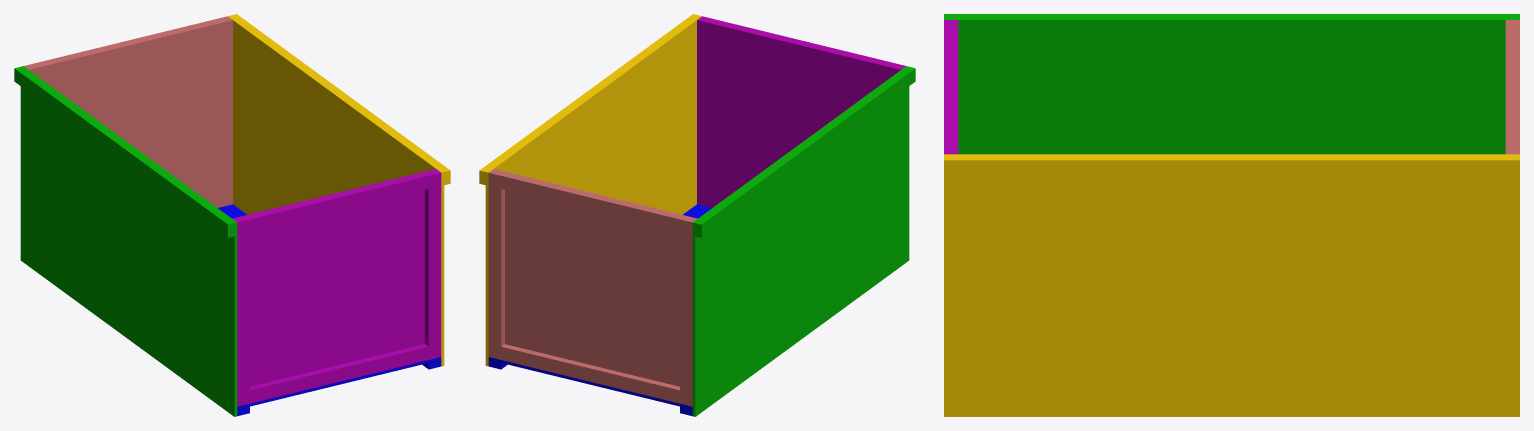
Rendered from result.glb.
3 renders of one model, left to right at view 1: azimuth 30°, elevation 25°; view 2: azimuth 150°, elevation 25°; view 3: azimuth 270°, elevation 25°, orthographic. The views are drawn at different scales.
Visible parts, largest first — view 1: 0e25f98b-09f3-45cd-bb47-501c201eb324__Box_6, 205b519f-11cb-4ad0-8585-0641e719d6b9__Box_3, 975e53b6-2ae1-4391-97b3-ee45c57ce4dd__undefined, 373ed51d-e0e8-47a6-8060-f9aa5711905f__undefined, b307f171-5fd1-41de-a270-65da28c6567a__Box_7, 2282affe-a8a2-4584-a511-0d2fb181e34f__undefined, 9d6b0615-c00f-4112-9d98-4bf765b9b4c3__Box_5, a1a6cd99-55f1-4740-ae36-e056ed8fb9df__undefined, 8f25a46c-e6c3-4e48-b54b-0ba611fcf8d8__Box_4, 3e5312ab-704e-4ec3-b5ff-955b9643d6ba__undefined, 26ce99ba-490a-4482-bc67-6b5587c7695a__Box, d0da0373-8fb3-4bf7-9241-d7a6e5b3b28d__undefined; view 2: 0e25f98b-09f3-45cd-bb47-501c201eb324__Box_6, 373ed51d-e0e8-47a6-8060-f9aa5711905f__undefined, 975e53b6-2ae1-4391-97b3-ee45c57ce4dd__undefined, 205b519f-11cb-4ad0-8585-0641e719d6b9__Box_3, b307f171-5fd1-41de-a270-65da28c6567a__Box_7, d0da0373-8fb3-4bf7-9241-d7a6e5b3b28d__undefined, ca58fdfd-73b6-4acc-8591-f6bd75027dca__undefined, edbc277f-1fb7-4578-9288-ad8168f70018__undefined, 7edc9d4a-2712-4d6b-85fe-d94f5a2bf6b9__undefined, 3e5312ab-704e-4ec3-b5ff-955b9643d6ba__undefined, 26ce99ba-490a-4482-bc67-6b5587c7695a__Box, 2282affe-a8a2-4584-a511-0d2fb181e34f__undefined; view 3: 975e53b6-2ae1-4391-97b3-ee45c57ce4dd__undefined, 0e25f98b-09f3-45cd-bb47-501c201eb324__Box_6, 3e5312ab-704e-4ec3-b5ff-955b9643d6ba__undefined, b307f171-5fd1-41de-a270-65da28c6567a__Box_7, 2282affe-a8a2-4584-a511-0d2fb181e34f__undefined, d0da0373-8fb3-4bf7-9241-d7a6e5b3b28d__undefined, 205b519f-11cb-4ad0-8585-0641e719d6b9__Box_3, 373ed51d-e0e8-47a6-8060-f9aa5711905f__undefined.
Boxes of the visible parts, box(x1,y1,x2,y2) form: 0e25f98b-09f3-45cd-bb47-501c201eb324__Box_6: box(20, 66, 237, 416); 205b519f-11cb-4ad0-8585-0641e719d6b9__Box_3: box(232, 169, 437, 386); 975e53b6-2ae1-4391-97b3-ee45c57ce4dd__undefined: box(228, 15, 444, 366); 373ed51d-e0e8-47a6-8060-f9aa5711905f__undefined: box(27, 19, 232, 207); b307f171-5fd1-41de-a270-65da28c6567a__Box_7: box(14, 66, 234, 237); 2282affe-a8a2-4584-a511-0d2fb181e34f__undefined: box(246, 173, 428, 232); 9d6b0615-c00f-4112-9d98-4bf765b9b4c3__Box_5: box(250, 344, 428, 403); a1a6cd99-55f1-4740-ae36-e056ed8fb9df__undefined: box(425, 170, 441, 359); 8f25a46c-e6c3-4e48-b54b-0ba611fcf8d8__Box_4: box(234, 217, 249, 406); 3e5312ab-704e-4ec3-b5ff-955b9643d6ba__undefined: box(231, 14, 450, 185); 26ce99ba-490a-4482-bc67-6b5587c7695a__Box: box(218, 204, 441, 409); d0da0373-8fb3-4bf7-9241-d7a6e5b3b28d__undefined: box(36, 19, 217, 65); 0e25f98b-09f3-45cd-bb47-501c201eb324__Box_6: box(692, 66, 909, 416); 373ed51d-e0e8-47a6-8060-f9aa5711905f__undefined: box(492, 169, 697, 386); 975e53b6-2ae1-4391-97b3-ee45c57ce4dd__undefined: box(485, 15, 701, 366); 205b519f-11cb-4ad0-8585-0641e719d6b9__Box_3: box(697, 19, 902, 207); b307f171-5fd1-41de-a270-65da28c6567a__Box_7: box(695, 66, 915, 237); d0da0373-8fb3-4bf7-9241-d7a6e5b3b28d__undefined: box(501, 173, 683, 232); ca58fdfd-73b6-4acc-8591-f6bd75027dca__undefined: box(501, 344, 679, 403); edbc277f-1fb7-4578-9288-ad8168f70018__undefined: box(488, 170, 504, 359); 7edc9d4a-2712-4d6b-85fe-d94f5a2bf6b9__undefined: box(680, 217, 695, 406); 3e5312ab-704e-4ec3-b5ff-955b9643d6ba__undefined: box(479, 14, 698, 185); 26ce99ba-490a-4482-bc67-6b5587c7695a__Box: box(488, 204, 711, 409); 2282affe-a8a2-4584-a511-0d2fb181e34f__undefined: box(712, 19, 893, 65); 975e53b6-2ae1-4391-97b3-ee45c57ce4dd__undefined: box(944, 154, 1519, 416); 0e25f98b-09f3-45cd-bb47-501c201eb324__Box_6: box(944, 18, 1519, 154); 3e5312ab-704e-4ec3-b5ff-955b9643d6ba__undefined: box(944, 156, 1519, 177); b307f171-5fd1-41de-a270-65da28c6567a__Box_7: box(944, 14, 1519, 17); 2282affe-a8a2-4584-a511-0d2fb181e34f__undefined: box(944, 28, 953, 145); d0da0373-8fb3-4bf7-9241-d7a6e5b3b28d__undefined: box(1510, 28, 1519, 145); 205b519f-11cb-4ad0-8585-0641e719d6b9__Box_3: box(954, 20, 958, 154); 373ed51d-e0e8-47a6-8060-f9aa5711905f__undefined: box(1505, 20, 1509, 154).
Size of the model in its own units: 632 by 526 by 1052.
